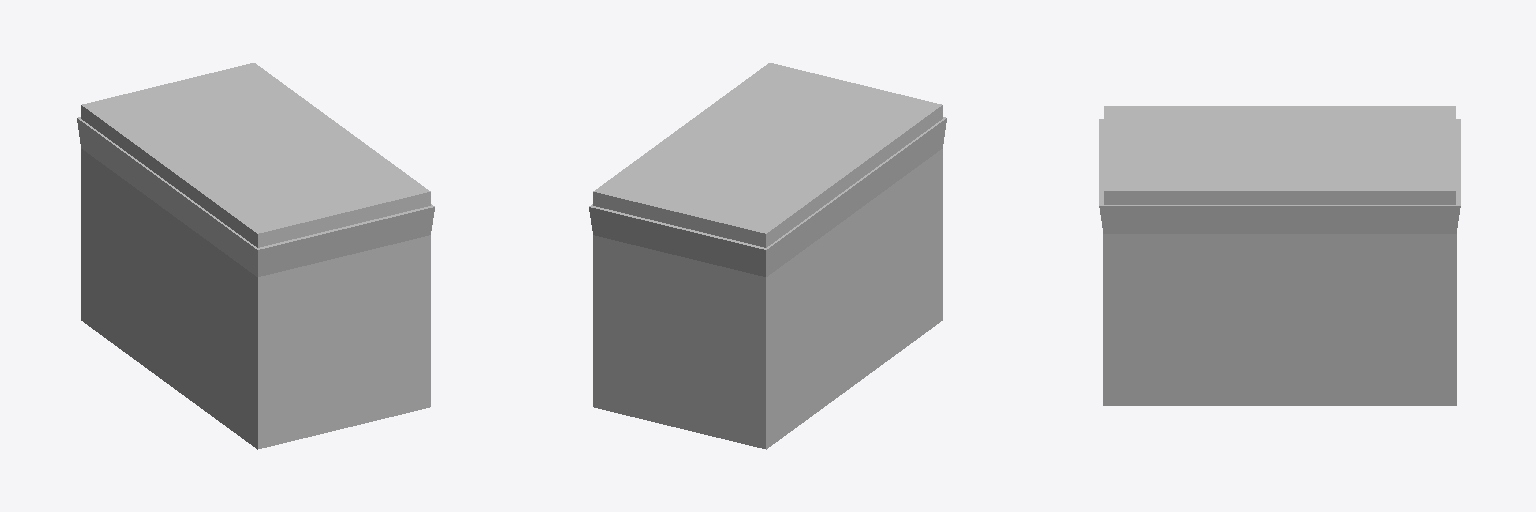
The model's file is enemt.obj.
3 renders of one model, left to right at view 1: azimuth 30°, elevation 25°; view 2: azimuth 150°, elevation 25°; view 3: azimuth 270°, elevation 25°, orthographic.
Parts seen in each view (by area): view 1: Plane; view 2: Plane; view 3: Plane.
Boxes of the visible parts, x1=… form: Plane: x1=77, y1=63, x2=434, y2=449; Plane: x1=589, y1=63, x2=946, y2=449; Plane: x1=1099, y1=106, x2=1460, y2=405.
Bounding box in the file's own units: 25.26 × 29.28 × 44.56.